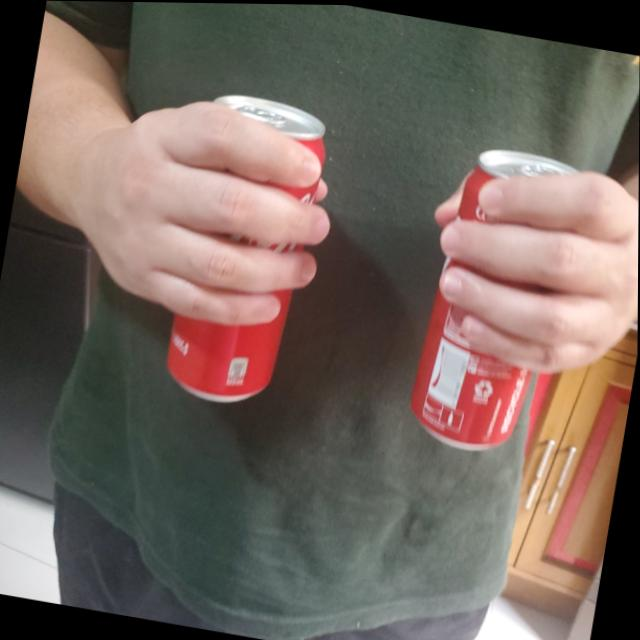coke: (410, 141, 585, 465), (164, 92, 335, 415)
